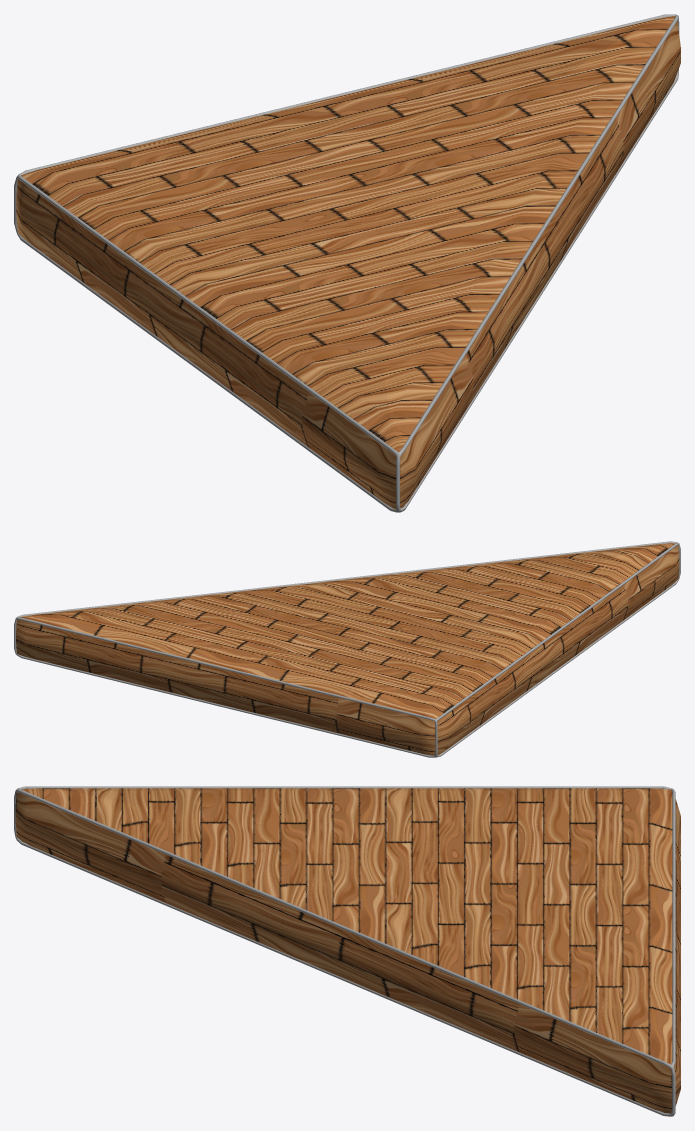
The model's file is SM_SoftFoam_45_2x2M.fbx.
The picture shows the model from 3 angles, top to bottom: view 1: azimuth 30°, elevation 25°; view 2: azimuth 150°, elevation 25°; view 3: azimuth 270°, elevation 25°; orthographic projection. The views are drawn at different scales.
Visible parts, largest first — view 1: SM_SoftFoam_45_2x2M; view 2: SM_SoftFoam_45_2x2M; view 3: SM_SoftFoam_45_2x2M.
Part boxes in pixels (x1=…): SM_SoftFoam_45_2x2M: x1=14, y1=14, x2=680, y2=512; SM_SoftFoam_45_2x2M: x1=14, y1=541, x2=680, y2=757; SM_SoftFoam_45_2x2M: x1=14, y1=786, x2=680, y2=1116.
Bounding box in the file's own units: 189 × 20 × 188.
